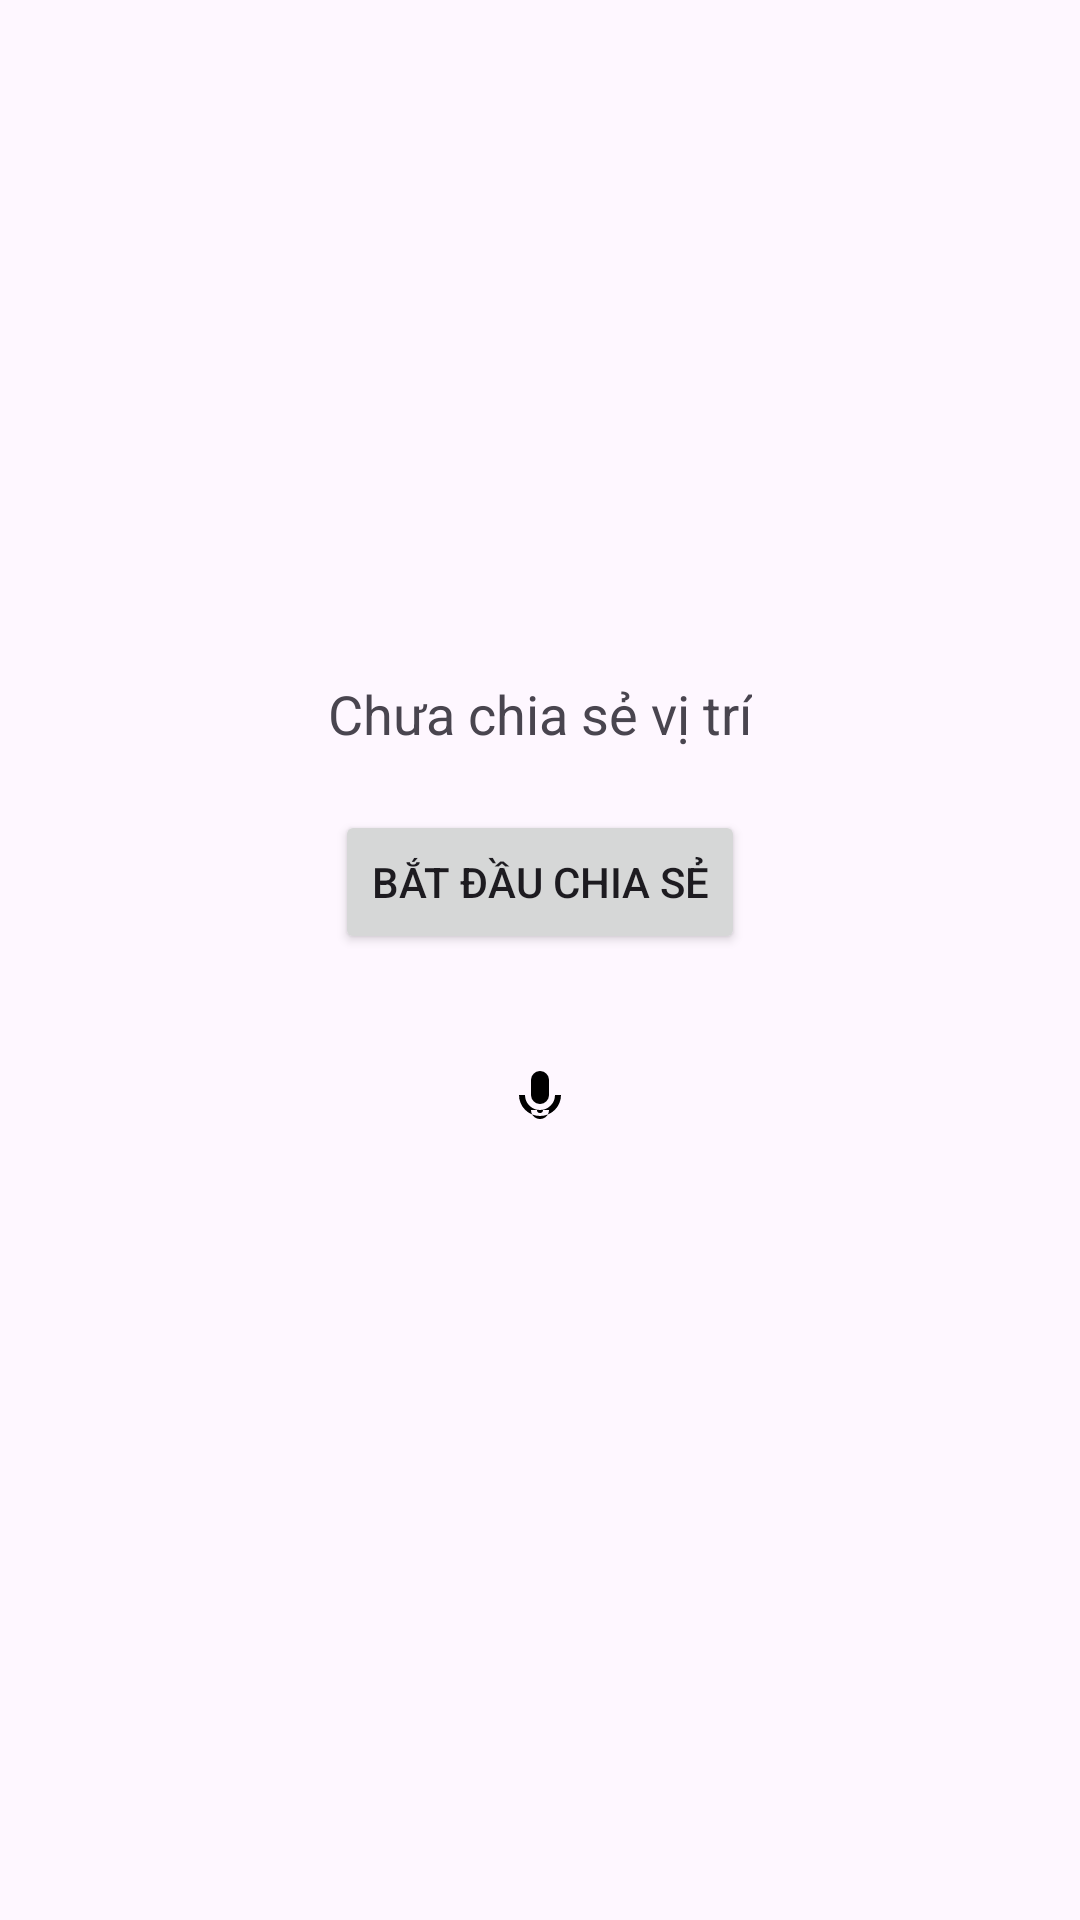

Locate icon controls on the screen. Image size 1080px x 1920px, boxes as bbox=(x1, y1, x2, y2).
Nói với con: bbox=(519, 1071, 561, 1119)
